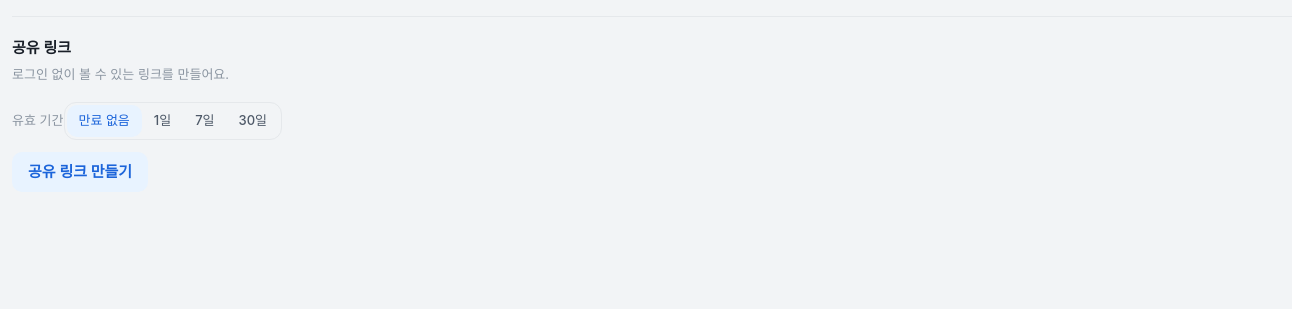
Test: SharePanel › creates a link and shows it in the list
What coordinates should you click on to do the following:
click the button "공유 링크 만들기"
I would click on:
 (80, 172)
Its box is [12,152,148,192].
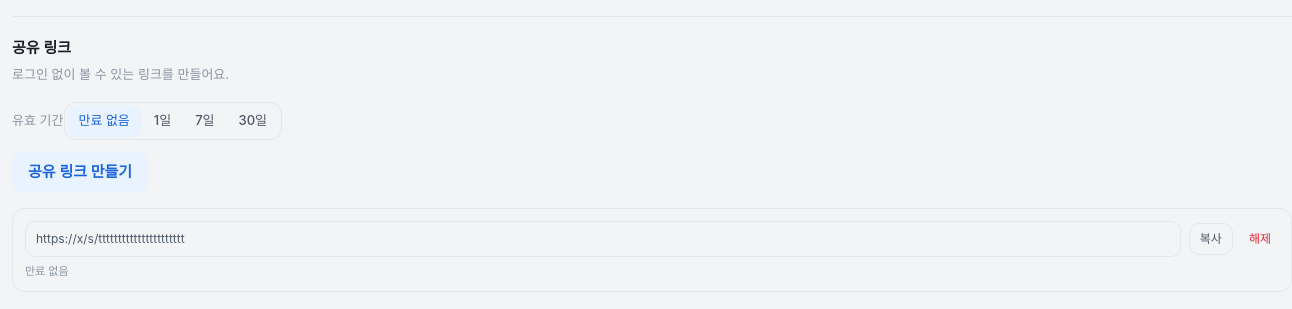
expect the field named "공유 링크" is shown: met, box [25,221,1181,257]
